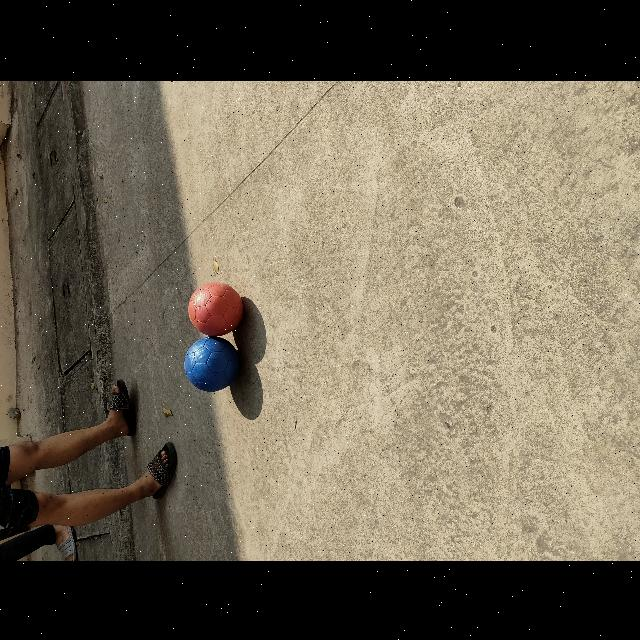B: (185, 336, 240, 391)
R: (189, 281, 244, 335)
